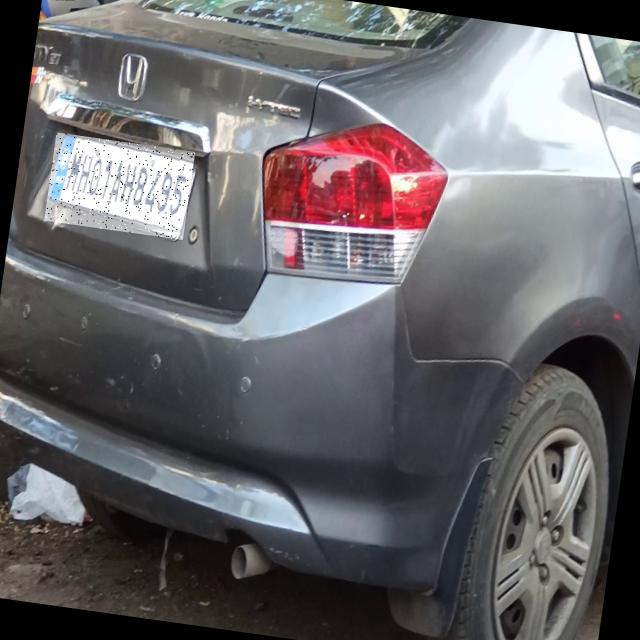Plate: (45, 134, 196, 242)
